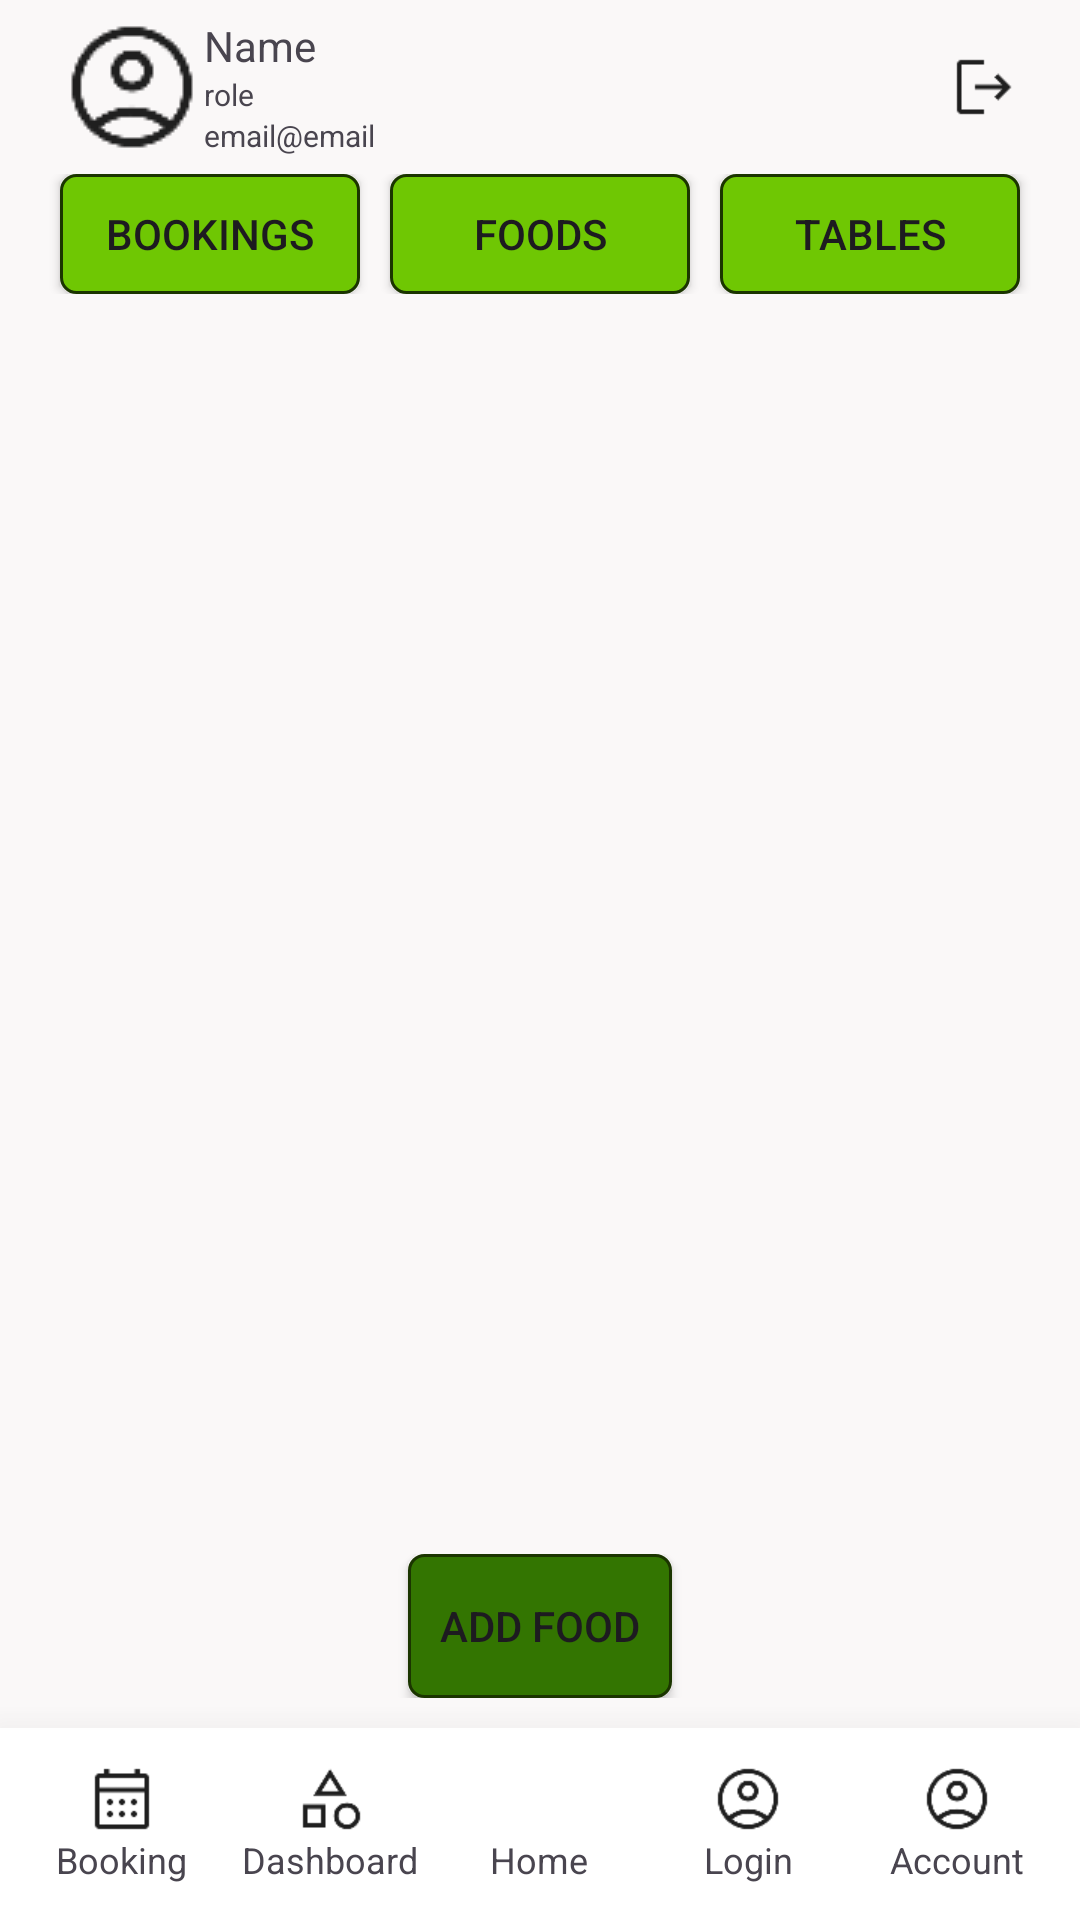

Named icons in this screenshot (1080*1920) and their bounding boxes, (x1=x1, y1=y1, x2=x2, y2=y2):
calendar: (x1=94, y1=1768, x2=150, y2=1830)
category: (x1=302, y1=1769, x2=361, y2=1830)
